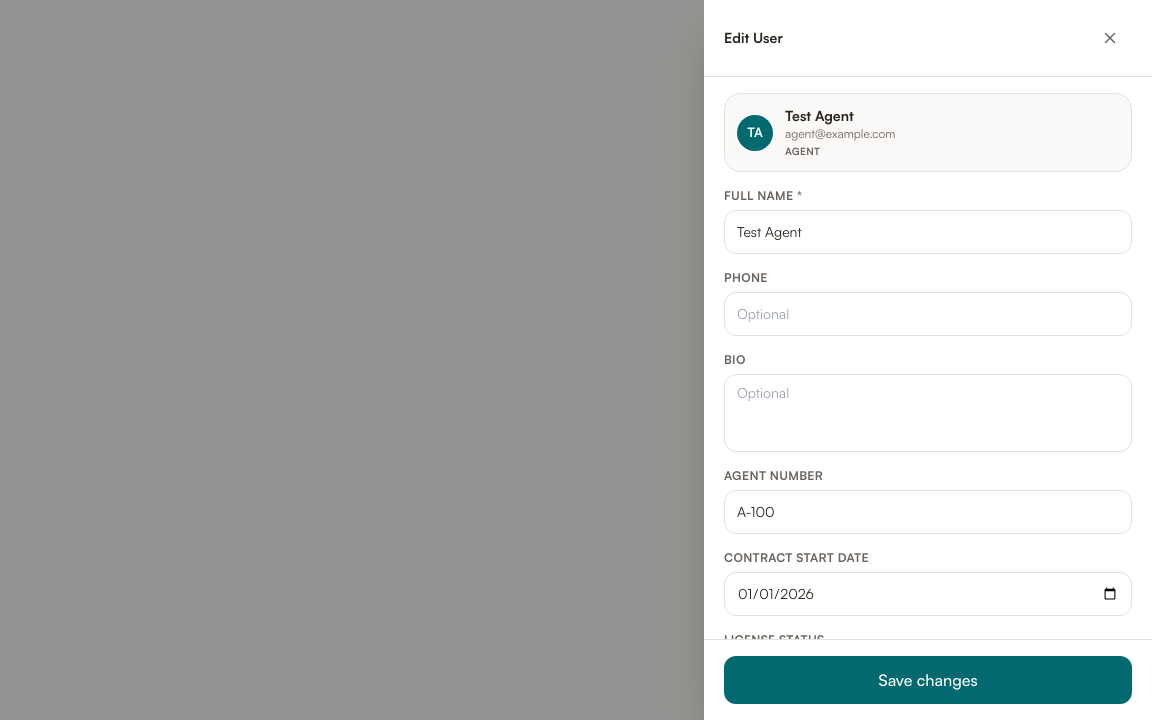
Test: EditUserDrawer › blocks save when no fields have changed
Click the button "Save changes". click: (928, 680)
box: [724,656,1132,704]
(page scrolled)
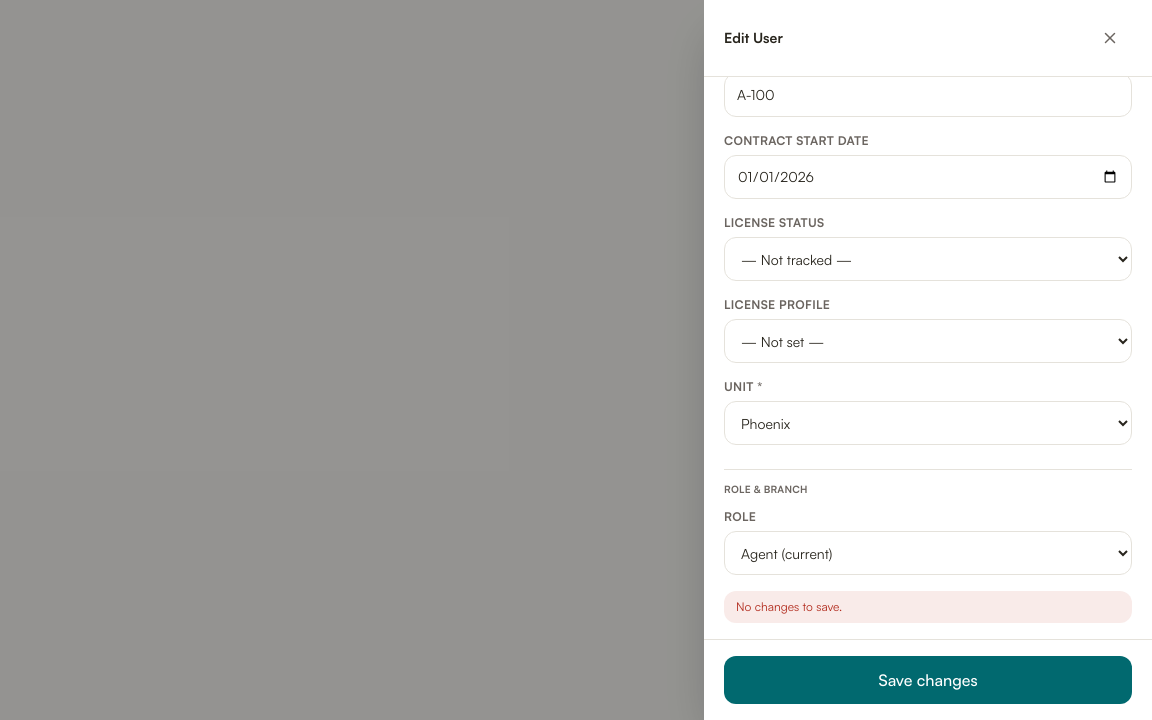
Check: the text "No changes to save." is shown, box [724,591,1132,623]
